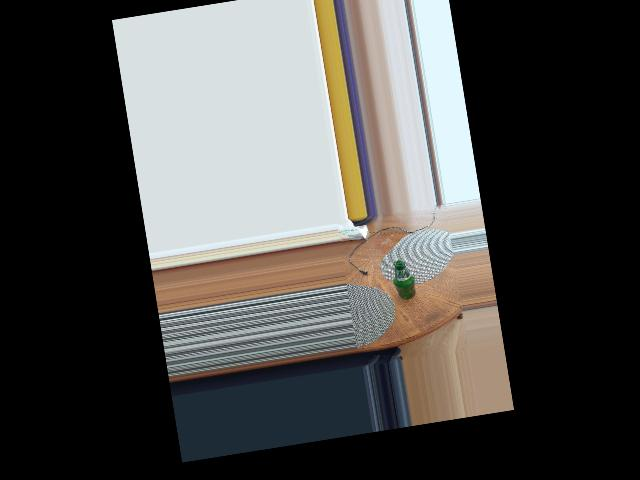beer: (390, 258, 417, 300)
